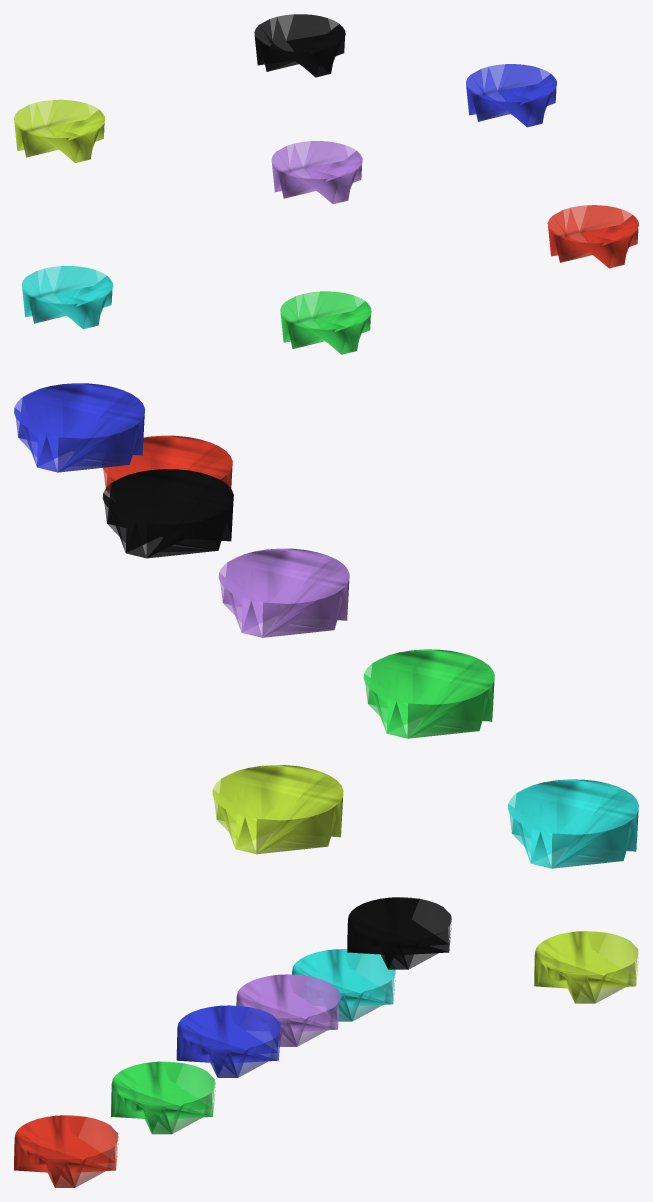
The model's file is Rune_Demo.fbx.
The picture shows the model from 3 angles, top to bottom: view 1: azimuth 30°, elevation 25°; view 2: azimuth 150°, elevation 25°; view 3: azimuth 270°, elevation 25°; orthographic projection. The views are drawn at different scales.
Parts seen in each view (by area): view 1: Hình Tròn.002, Hình Tròn.005, Hình Tròn.001, Hình Tròn, Hình Tròn.003, Hình Tròn.006, Hình Tròn.004; view 2: Hình Tròn.001, Hình Tròn.005, Hình Tròn.004, Hình Tròn.006, Hình Tròn.002, Hình Tròn, Hình Tròn.003; view 3: Hình Tròn.005, Hình Tròn.002, Hình Tròn, Hình Tròn.003, Hình Tròn.006, Hình Tròn.001, Hình Tròn.004.
Part boxes in pixels (left/top/right/bottom): Hình Tròn.002: left=254, top=14, right=345, bottom=77; Hình Tròn.005: left=280, top=291, right=371, bottom=354; Hình Tròn.001: left=271, top=141, right=362, bottom=204; Hình Tròn: left=14, top=99, right=104, bottom=162; Hình Tròn.003: left=547, top=205, right=638, bottom=268; Hình Tròn.006: left=466, top=64, right=556, bottom=127; Hình Tròn.004: left=22, top=266, right=112, bottom=329; Hình Tròn.001: left=218, top=548, right=349, bottom=637; Hình Tròn.005: left=363, top=649, right=494, bottom=738; Hình Tròn.004: left=508, top=779, right=638, bottom=868; Hình Tròn.006: left=14, top=383, right=144, bottom=472; Hình Tròn.002: left=102, top=469, right=233, bottom=558; Hình Tròn: left=212, top=765, right=343, bottom=854; Hình Tròn.003: left=103, top=435, right=232, bottom=493; Hình Tròn.005: left=111, top=1061, right=215, bottom=1134; Hình Tròn.002: left=347, top=897, right=451, bottom=969; Hình Tròn: left=534, top=931, right=638, bottom=1003; Hình Tròn.003: left=14, top=1115, right=118, bottom=1187; Hình Tròn.006: left=176, top=1005, right=281, bottom=1077; Hình Tròn.001: left=236, top=974, right=340, bottom=1046; Hình Tròn.004: left=292, top=949, right=395, bottom=1021.
Size of the model in its own units: 1221 by 501 by 1201.
